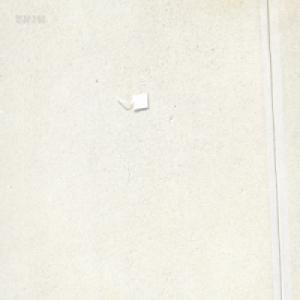LuggageTag: (114, 91, 149, 112)
